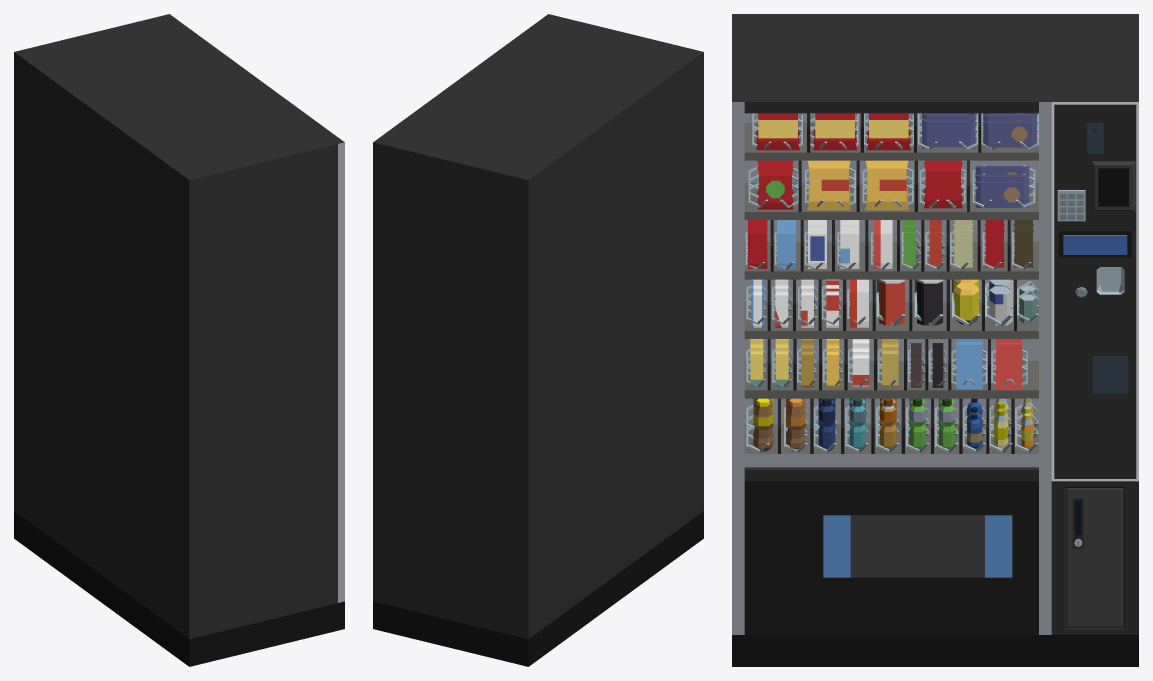
File: sweet_machine.fbx
3 renders of one model, left to right at view 1: azimuth 30°, elevation 25°; view 2: azimuth 150°, elevation 25°; view 3: azimuth 270°, elevation 25°, orthographic. The views are drawn at different scales.
Visible parts, largest first — view 1: Plane.001; view 2: Plane.001; view 3: Plane.001.
Boxes of the visible parts, left/top/right/bottom form: Plane.001: left=14, top=14, right=344, bottom=666; Plane.001: left=373, top=14, right=703, bottom=666; Plane.001: left=732, top=14, right=1138, bottom=666.
Size of the model in its own units: 61.83 by 181 by 118.
